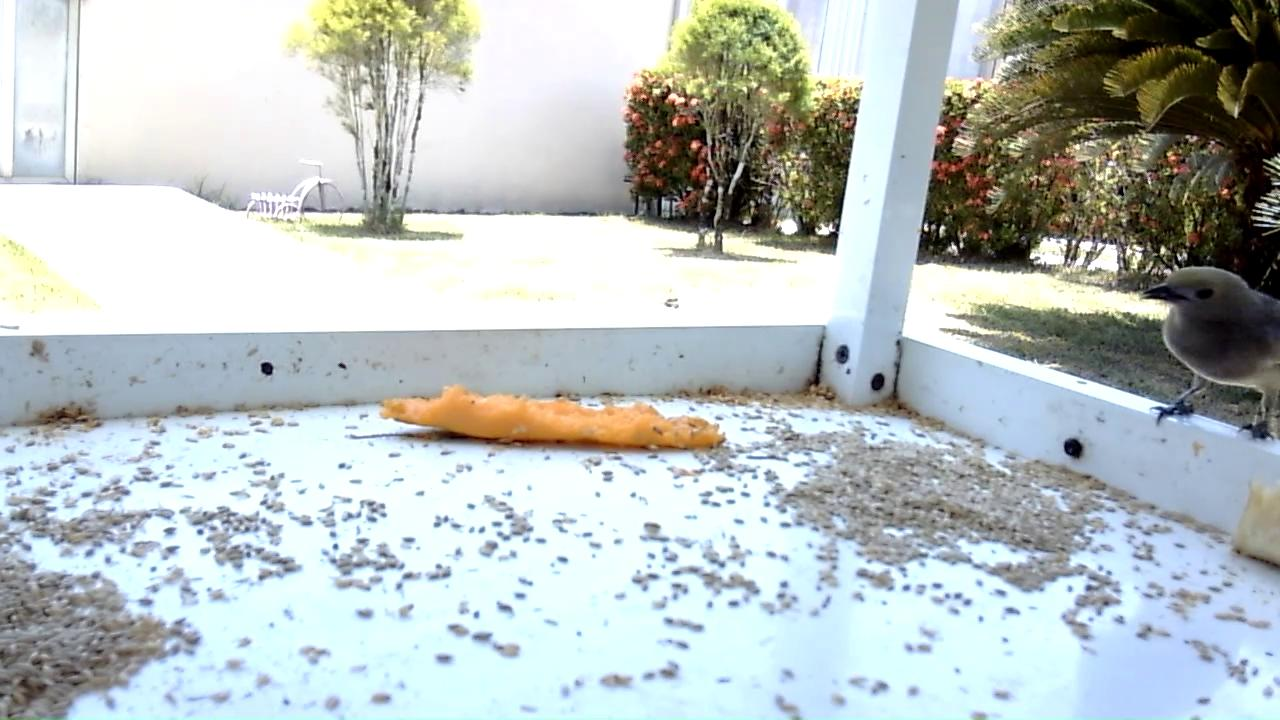sanhaco_do_coqueiro: (1140, 265, 1280, 444)
